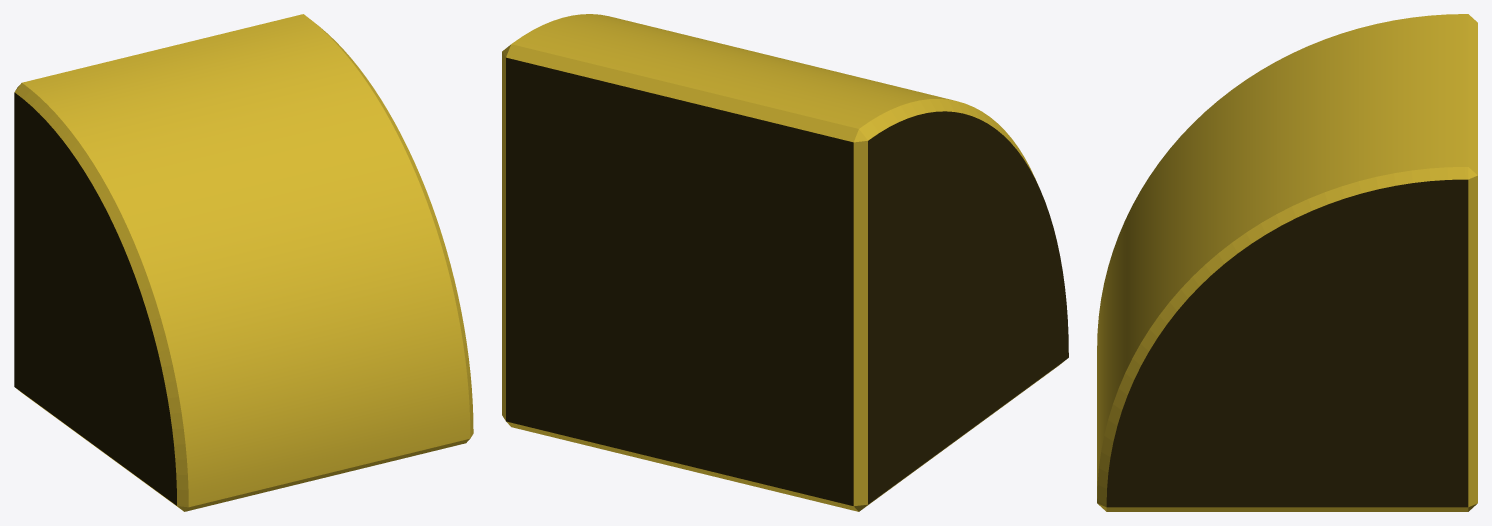
The model's file is OffsetPrizmConvex.fbx.
The picture shows the model from 3 angles, left to right: view 1: azimuth 30°, elevation 25°; view 2: azimuth 150°, elevation 25°; view 3: azimuth 270°, elevation 25°; orthographic projection. The views are drawn at different scales.
Visible parts, largest first — view 1: Cube; view 2: Cube; view 3: Cube.
Boxes of the visible parts, x1=… form: Cube: x1=14, y1=14, x2=473, y2=511; Cube: x1=502, y1=14, x2=1068, y2=511; Cube: x1=1097, y1=14, x2=1477, y2=511.
Bounding box in the file's own units: 2 × 2 × 2.
